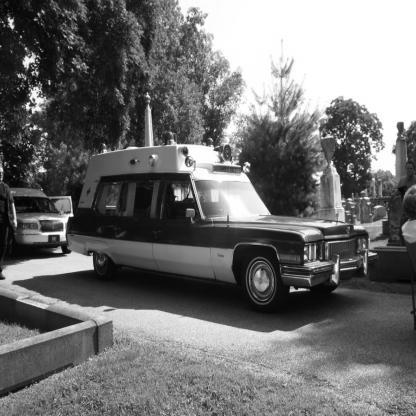ambulance: (64, 145, 381, 314)
